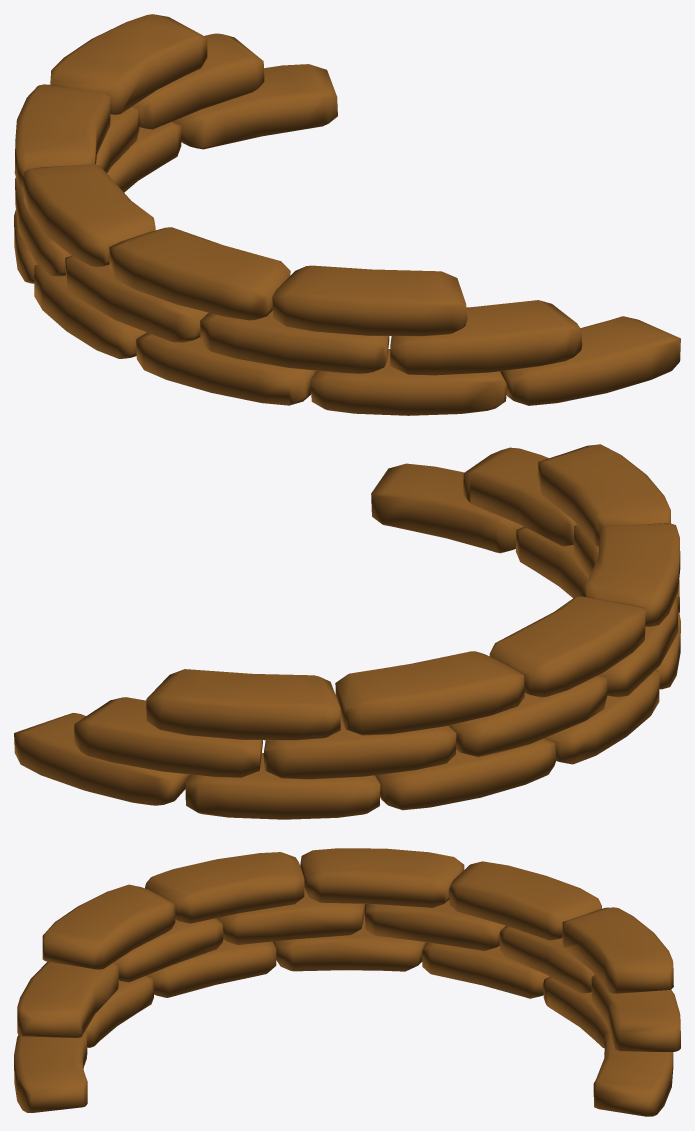
File: sandbag_cover_apply.fbx
3 views of the same model, one above another, from view 1: azimuth 30°, elevation 25°; view 2: azimuth 150°, elevation 25°; view 3: azimuth 270°, elevation 25° (orthographic). The views are drawn at different scales.
Parts seen in each view (by area): view 1: Cube; view 2: Cube; view 3: Cube.
Boxes of the visible parts, x1,y1,x2,y2 form: Cube: [14, 14, 680, 415]; Cube: [14, 444, 680, 819]; Cube: [14, 848, 680, 1116].
Size of the model in its own units: 981 by 253 by 1534.
